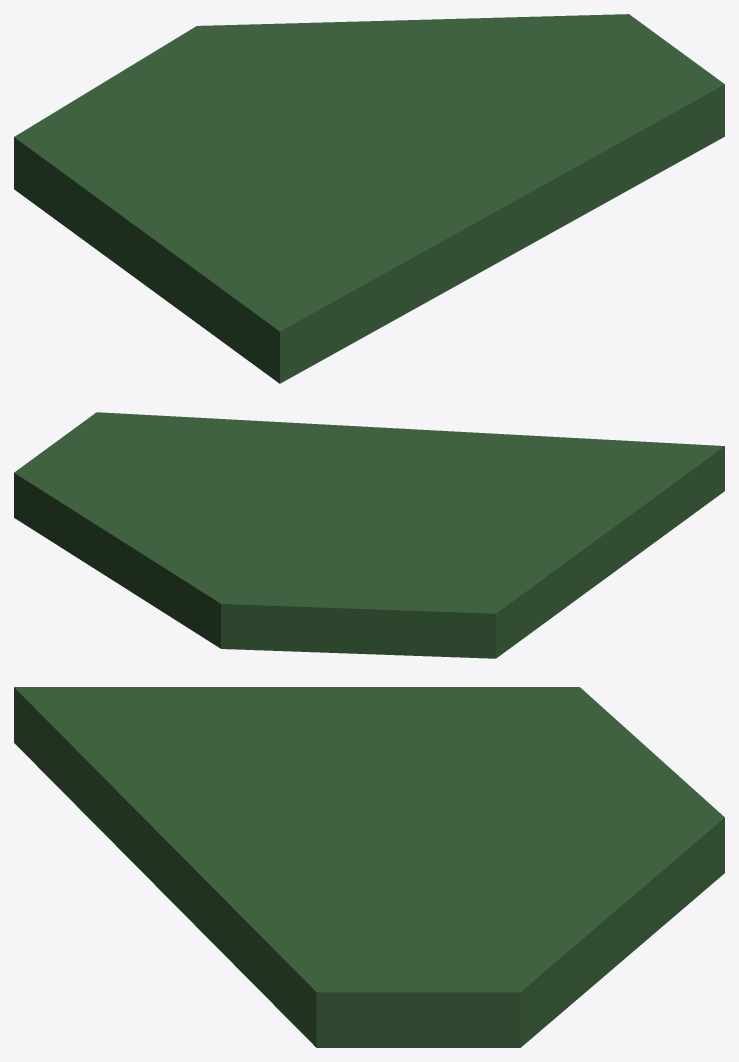
File: x_proval_00_215_1_rmstrd.fbx
3 renders of one model, top to bottom at view 1: azimuth 30°, elevation 25°; view 2: azimuth 150°, elevation 25°; view 3: azimuth 270°, elevation 25°, orthographic. The views are drawn at different scales.
Parts seen in each view (by area): view 1: x_proval_00_215_1_rmstrd1; view 2: x_proval_00_215_1_rmstrd1; view 3: x_proval_00_215_1_rmstrd1.
Boxes of the visible parts, left/top/right/bottom form: x_proval_00_215_1_rmstrd1: left=14, top=14, right=724, bottom=383; x_proval_00_215_1_rmstrd1: left=14, top=412, right=724, bottom=658; x_proval_00_215_1_rmstrd1: left=14, top=687, right=724, bottom=1047.
Size of the model in its own units: 2.35 by 0.2 by 2.32.
